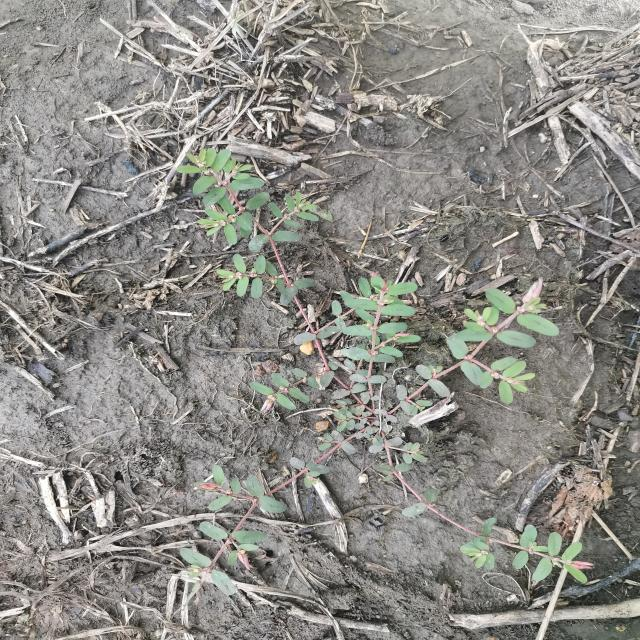SpottedSpurge: (174, 142, 597, 598)
